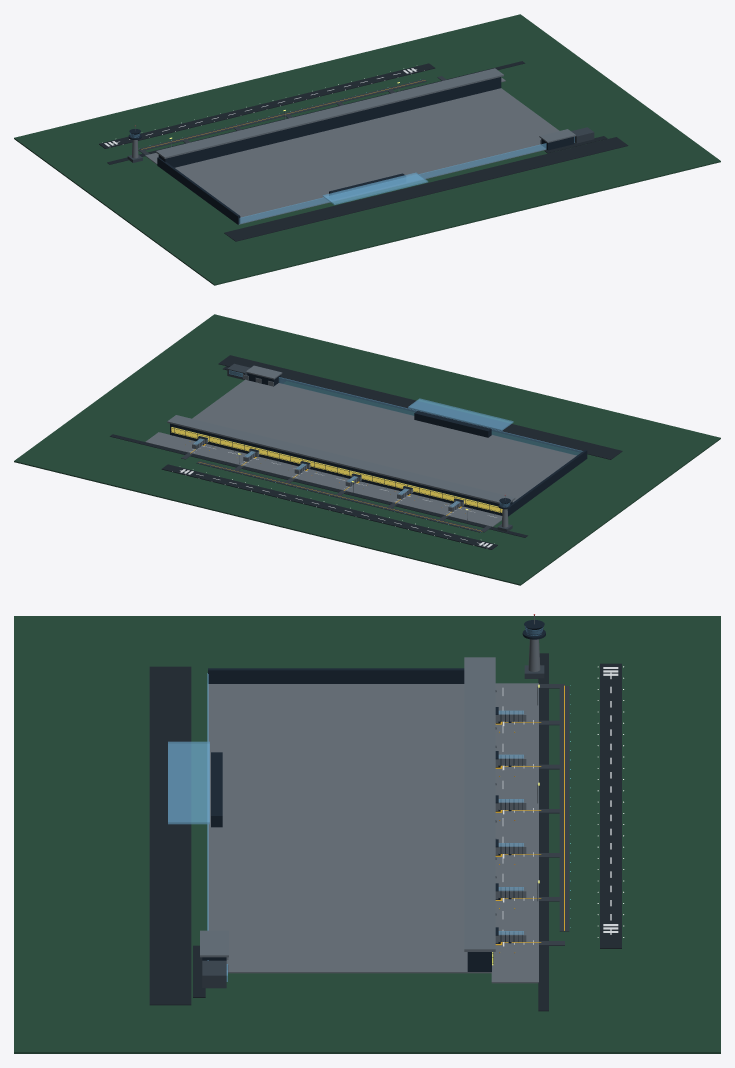
The model's file is airport-environment.glb.
The picture shows the model from 3 angles, top to bottom: view 1: azimuth 30°, elevation 25°; view 2: azimuth 150°, elevation 25°; view 3: azimuth 270°, elevation 25°; orthographic projection. The views are drawn at different scales.
Visible parts, largest first — view 1: Terrain_LOD0, Terminal_Floor, Entrance_Road, Concourse_Core, Concourse_Roof, Runway_09_27, South_Glass, Entrance_Canopy, Taxiway_Main, West_Wall, Perimeter_Road; view 2: Terrain_LOD0, Terminal_Floor, Apron, Entrance_Road, Concourse_Roof, Concourse_Core, Runway_09_27, Concourse_Glass, South_Glass, Perimeter_Road, Entrance_Canopy, Taxiway_Main (+2 smaller); view 3: Terrain_LOD0, Terminal_Floor, Entrance_Road, Apron, Concourse_Roof, Runway_09_27, West_Wall, Entrance_Canopy, Perimeter_Road, Taxiway_Main, Entrance_Core, Cargo_Roof (+1 smaller).
Boxes of the visible parts, x1,y1,x2,y2 form: Terrain_LOD0: [14, 14, 720, 285]; Terminal_Floor: [175, 88, 574, 224]; Entrance_Road: [224, 137, 628, 241]; Concourse_Core: [158, 77, 501, 167]; Concourse_Roof: [156, 68, 503, 158]; Runway_09_27: [99, 63, 435, 148]; South_Glass: [239, 136, 574, 224]; Entrance_Canopy: [322, 172, 428, 204]; Taxiway_Main: [139, 79, 426, 150]; West_Wall: [157, 157, 240, 224]; Perimeter_Road: [107, 61, 525, 164]; Terrain_LOD0: [14, 314, 720, 585]; Terminal_Floor: [171, 379, 576, 514]; Apron: [145, 432, 502, 526]; Entrance_Road: [218, 355, 622, 459]; Concourse_Roof: [167, 415, 515, 503]; Concourse_Core: [170, 423, 512, 515]; Runway_09_27: [161, 464, 497, 549]; Concourse_Glass: [171, 427, 502, 512]; South_Glass: [278, 377, 582, 455]; Perimeter_Road: [110, 434, 527, 537]; Entrance_Canopy: [408, 398, 513, 430]; Taxiway_Main: [196, 461, 482, 532]; Terrain_LOD0: [14, 616, 720, 1053]; Terminal_Floor: [208, 684, 491, 973]; Entrance_Road: [149, 666, 191, 1005]; Apron: [491, 683, 538, 983]; Concourse_Roof: [464, 657, 495, 951]; Runway_09_27: [600, 663, 621, 948]; West_Wall: [208, 668, 464, 683]; Entrance_Canopy: [168, 741, 209, 824]; Perimeter_Road: [538, 653, 548, 1011]; Taxiway_Main: [559, 686, 569, 931]; Entrance_Core: [211, 752, 222, 827]; Cargo_Roof: [200, 930, 228, 957].
Size of what is drawn, in the model's own units: 1780 by 119 by 1220.
